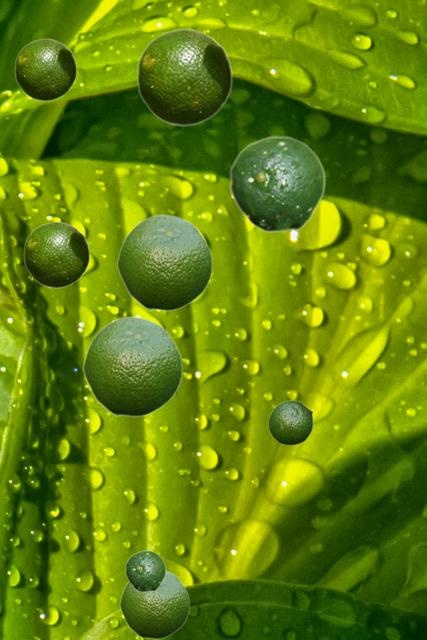calamansi: (82, 315, 182, 416), (116, 213, 212, 310), (229, 135, 325, 232), (136, 28, 232, 125), (119, 570, 189, 638), (23, 221, 89, 287), (14, 38, 76, 100), (268, 400, 312, 444), (125, 550, 165, 591)
